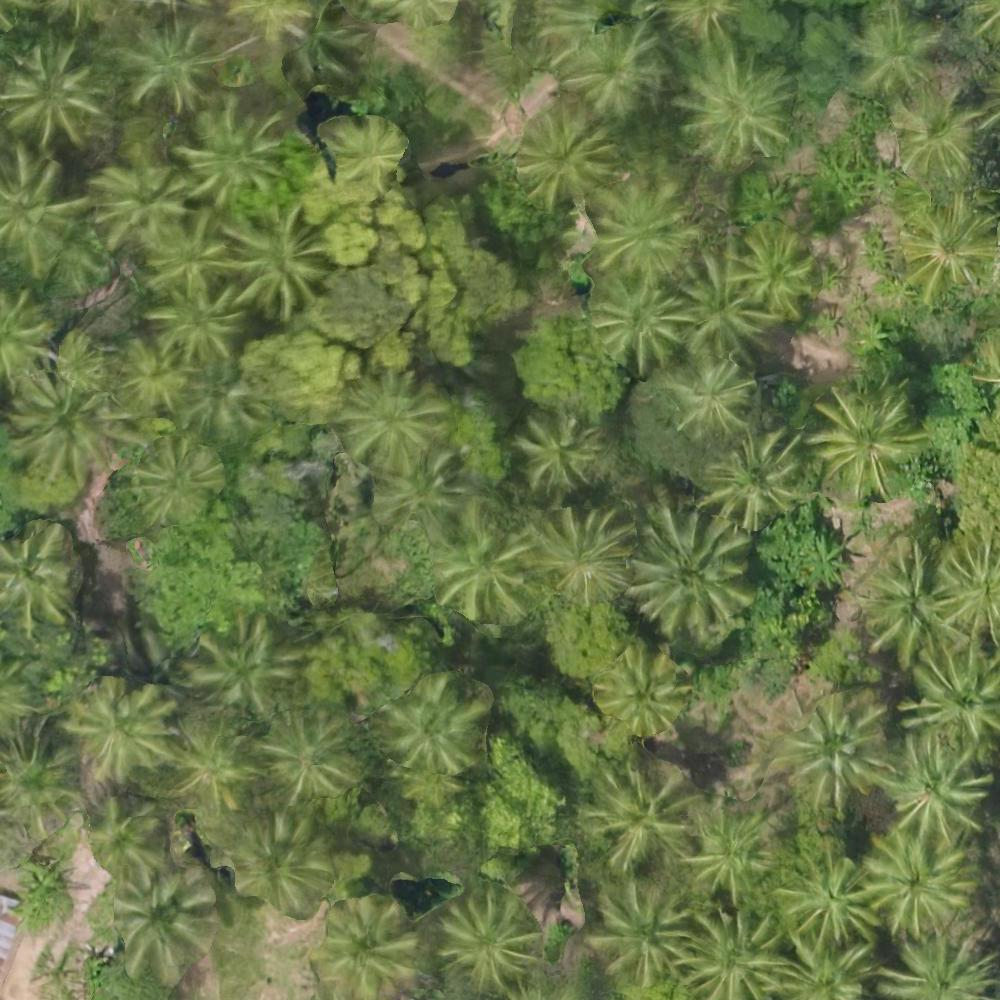Palm: (11, 367, 126, 479), (633, 513, 747, 625), (221, 204, 333, 314), (777, 691, 887, 800), (680, 51, 787, 162), (111, 865, 215, 975), (863, 830, 970, 935), (3, 36, 104, 147), (812, 385, 918, 489), (1, 146, 91, 266), (182, 98, 287, 199), (884, 733, 987, 835), (588, 177, 691, 278), (432, 505, 529, 612), (515, 98, 612, 205), (681, 248, 777, 356), (595, 882, 699, 981), (580, 760, 682, 859), (775, 843, 879, 940), (901, 192, 999, 294), (525, 507, 630, 602), (229, 814, 332, 909), (70, 678, 167, 778), (1, 721, 88, 832), (386, 676, 484, 772), (94, 147, 194, 241), (862, 546, 946, 657), (682, 804, 779, 900), (700, 435, 801, 527), (318, 899, 409, 999), (908, 646, 999, 746), (340, 374, 440, 465), (683, 911, 787, 998), (593, 273, 690, 366), (118, 18, 213, 111), (364, 449, 463, 538), (728, 224, 820, 317), (143, 268, 238, 358), (568, 24, 659, 117), (442, 896, 535, 984), (193, 618, 286, 706), (261, 714, 353, 802), (138, 207, 227, 297), (170, 719, 257, 808), (931, 525, 1000, 637), (1, 524, 78, 624), (132, 431, 222, 515), (895, 85, 978, 175), (671, 350, 759, 434), (596, 649, 682, 731), (514, 407, 601, 488), (849, 7, 940, 84), (86, 796, 167, 878), (776, 930, 868, 1000), (120, 332, 194, 414)
